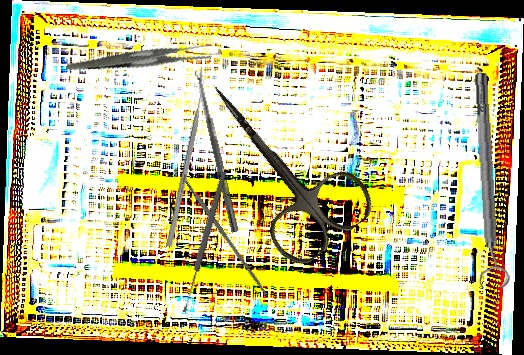Dressing Forceps: (65, 16, 215, 98)
Fixation Ring: (465, 71, 511, 290)
Iris Scissors: (174, 52, 381, 274)
Pusher: (166, 77, 208, 247)
Scalpel Handle: (179, 173, 270, 297)
Surgical Spoon: (194, 69, 240, 233), (180, 170, 228, 314)
